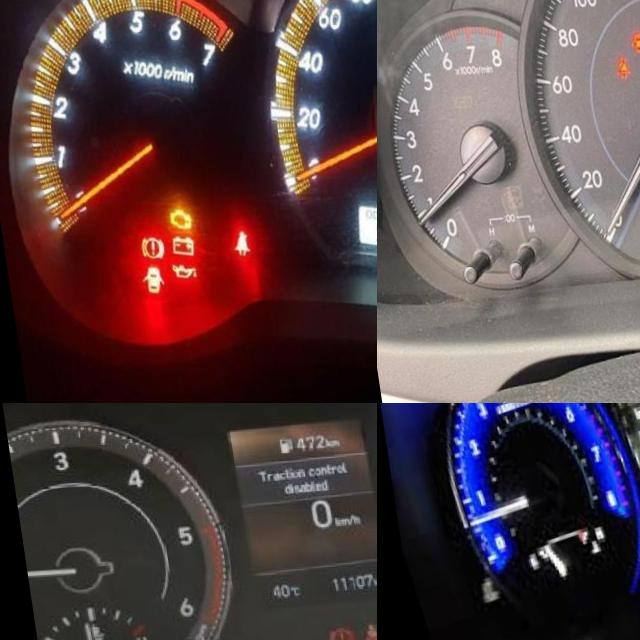Seat Belt: (603, 58, 624, 86), (220, 234, 239, 260)
